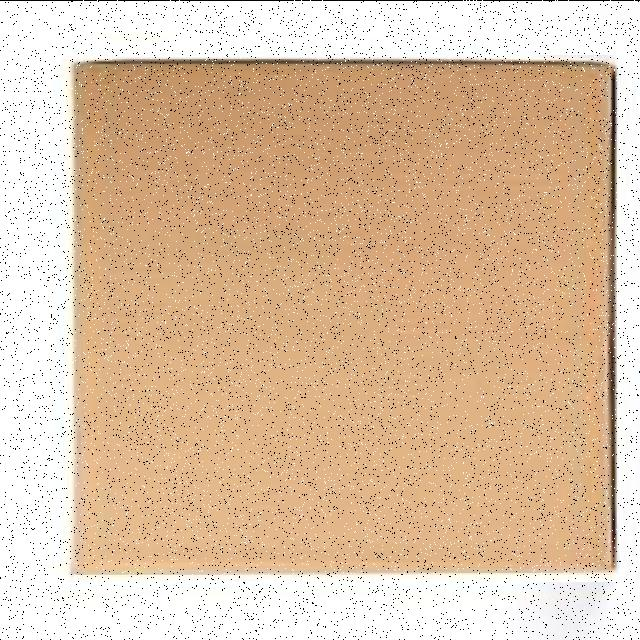normal: (62, 54, 620, 581)
